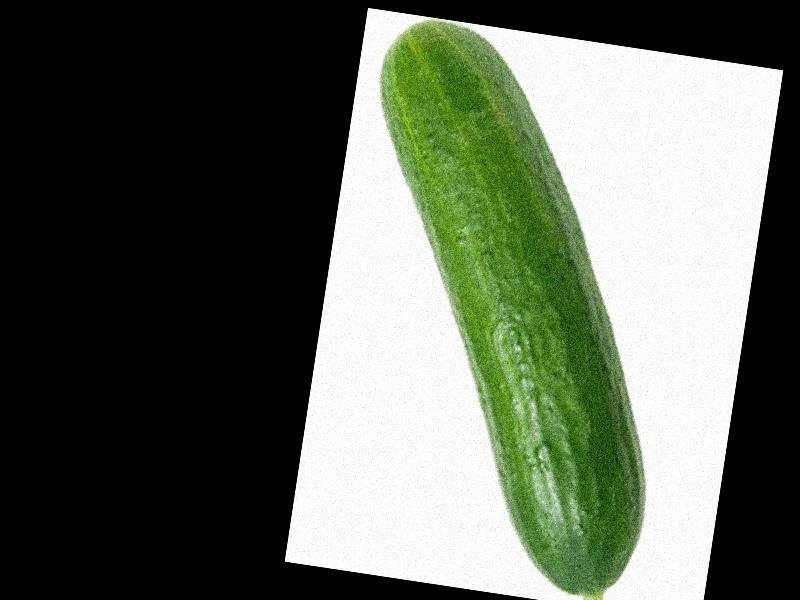Cucumber: (309, 13, 713, 600)
